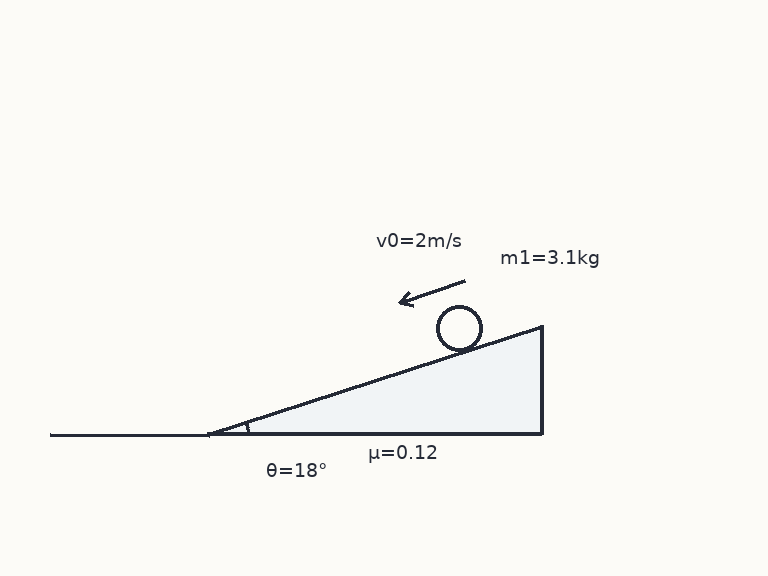ball: (434, 303, 484, 353)
ramp: (206, 324, 543, 436)
